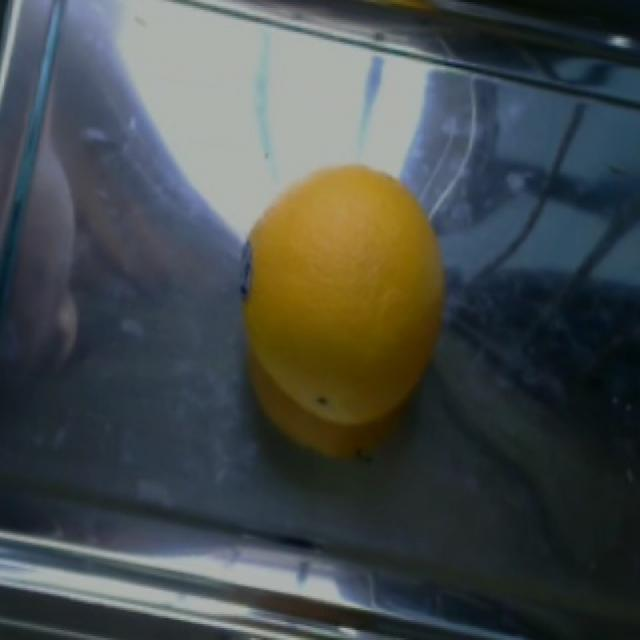Fruit: (228, 147, 460, 465)
